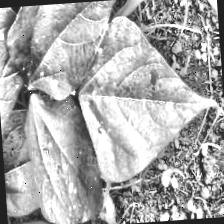Bean Rust: (67, 9, 215, 181), (1, 0, 146, 107), (22, 88, 106, 224), (0, 6, 29, 159)
